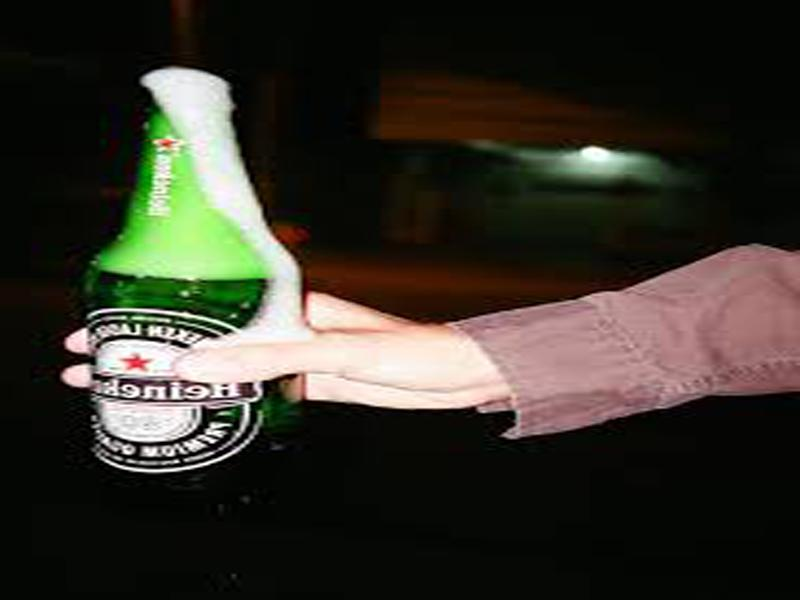Beer: (78, 87, 305, 483)
